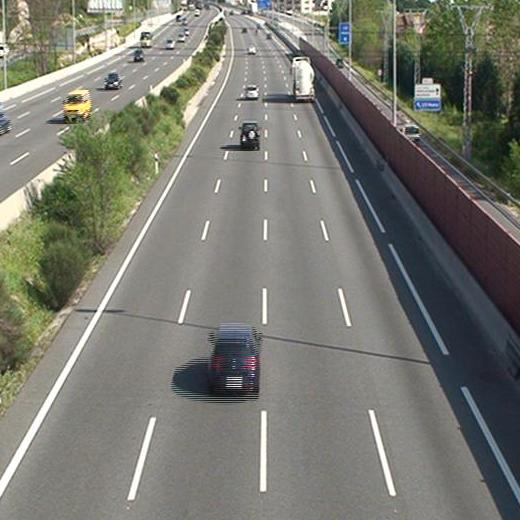car: (208, 326, 260, 390), (240, 121, 259, 146), (245, 83, 258, 99), (247, 45, 255, 55)
tank-truck: (292, 56, 316, 99)
